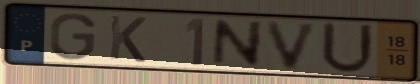1: (184, 17, 206, 68)
G: (47, 11, 98, 63)
K: (107, 13, 149, 65)
N: (210, 19, 267, 69)
U: (318, 19, 377, 76)
V: (263, 19, 323, 72)
